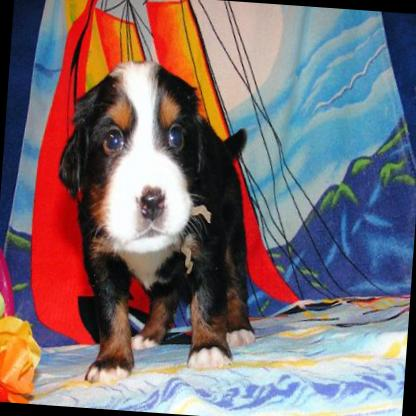Bernese_mountain_dog: (42, 53, 274, 394)
